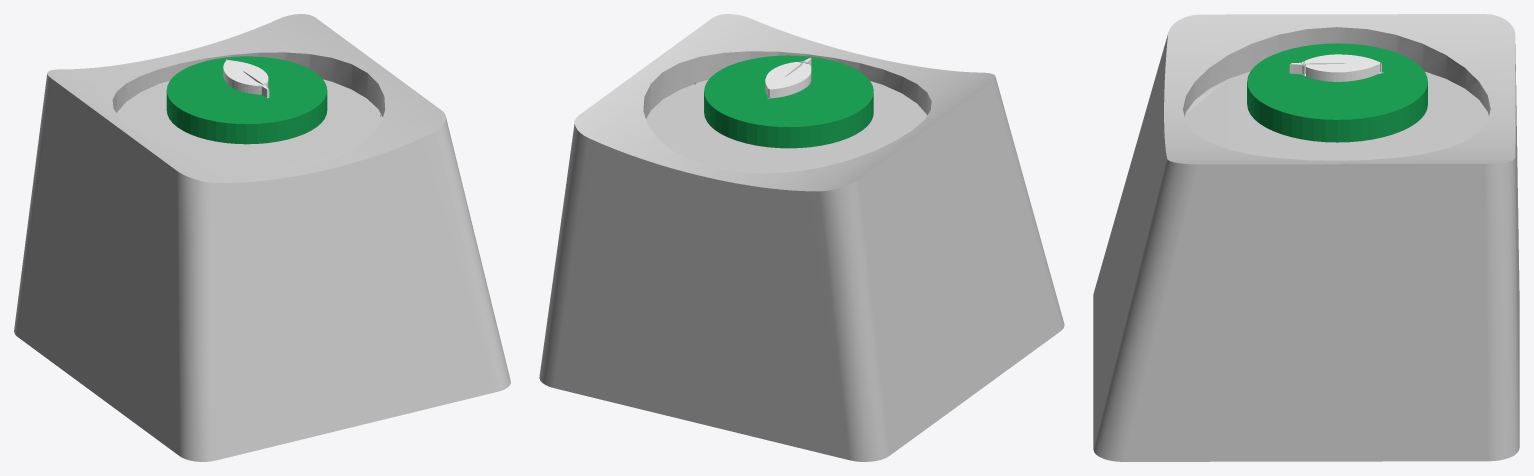
File: mongodb-keycaps.gltf
The picture shows the model from 3 angles, left to right: view 1: azimuth 30°, elevation 25°; view 2: azimuth 150°, elevation 25°; view 3: azimuth 270°, elevation 25°; orthographic projection. The views are drawn at different scales.
Parts seen in each view (by area): view 1: KEYCAP, Curve.001, Curve.002; view 2: KEYCAP, Curve.001, Curve.002; view 3: KEYCAP, Curve.001, Curve.002.
Part boxes in pixels (x1,y1,x2,y2): KEYCAP: (14, 14, 510, 461); Curve.001: (166, 56, 327, 144); Curve.002: (223, 59, 269, 97); KEYCAP: (539, 14, 1064, 461); Curve.001: (704, 55, 873, 148); Curve.002: (765, 57, 811, 98); KEYCAP: (1093, 14, 1519, 461); Curve.001: (1247, 43, 1427, 142); Curve.002: (1289, 54, 1383, 81).
Bounding box in the file's own units: 0.0753 × 0.06 × 0.0753.
